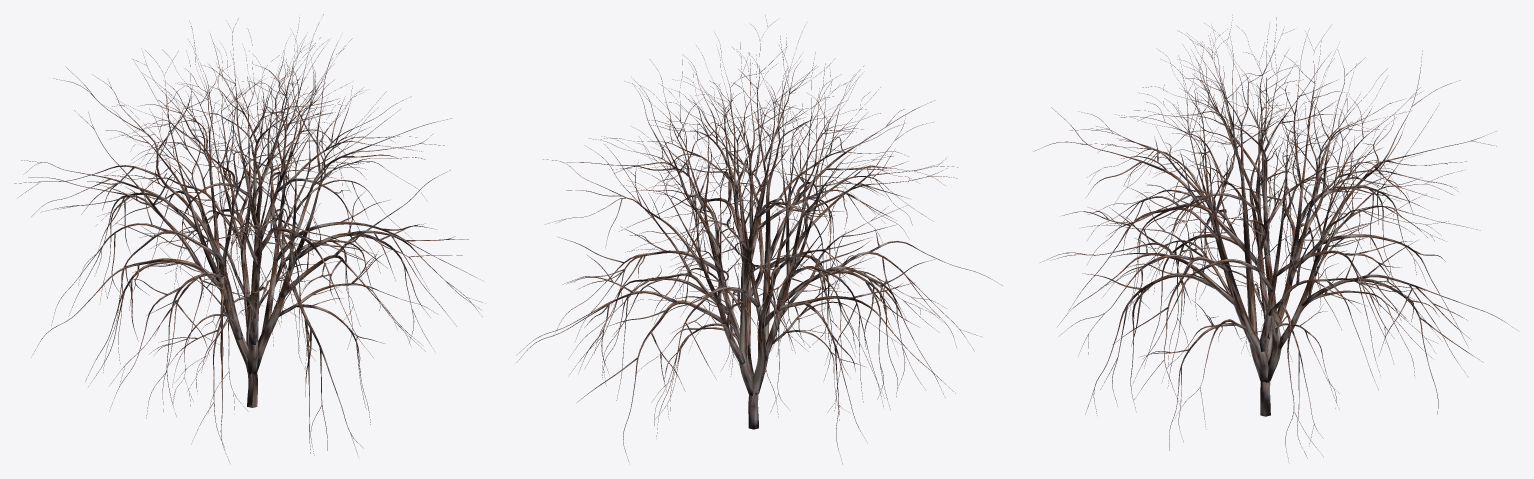
The model's file is Tree 2.fbx.
The picture shows the model from 3 angles, left to right: view 1: azimuth 30°, elevation 25°; view 2: azimuth 150°, elevation 25°; view 3: azimuth 270°, elevation 25°; orthographic projection.
Parts seen in each view (by area): view 1: Tree 2; view 2: Tree 2; view 3: Tree 2.
Boxes of the visible parts, x1,y1,x2,y2 form: Tree 2: (14, 14, 484, 463); Tree 2: (516, 15, 1002, 464); Tree 2: (1033, 14, 1517, 463).
Bounding box in the file's own units: 784 × 722 × 817.
Materials: 1 (1 with a texture image).
